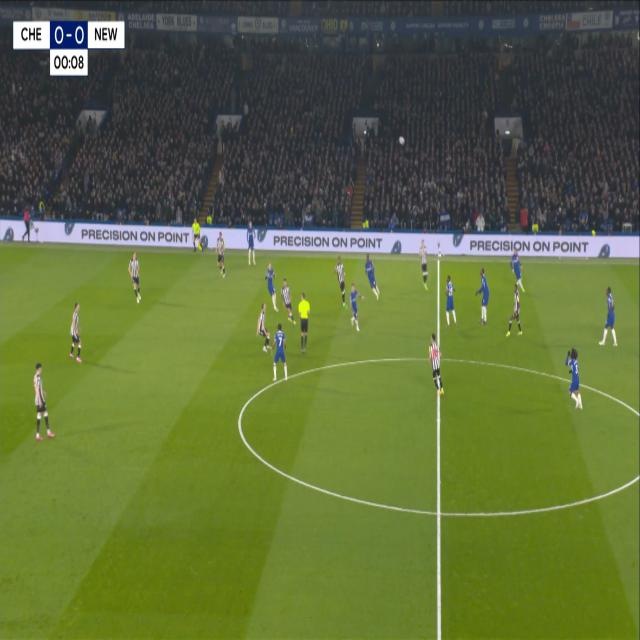Ball: (398, 134, 405, 146)
Chelsea: (597, 280, 620, 350), (563, 342, 585, 412), (268, 319, 290, 384), (474, 263, 492, 327), (346, 278, 365, 334), (443, 273, 460, 333), (362, 254, 380, 293), (246, 217, 257, 270), (266, 263, 276, 297)
New castle: (30, 358, 57, 446), (426, 328, 447, 401), (504, 282, 524, 342), (68, 300, 86, 364), (126, 247, 144, 308), (332, 252, 349, 312), (417, 237, 433, 294), (215, 230, 229, 285)
Refree: (296, 288, 312, 356)
